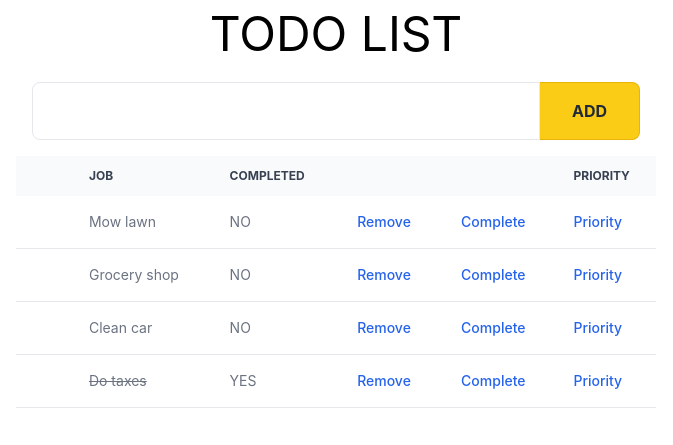
Test: My Add Todo Test › should show a star to the left of the job title when "Priority" is clicked
Click the link with id "priority-0". click: click(599, 222)
box: [574,213,623,230]
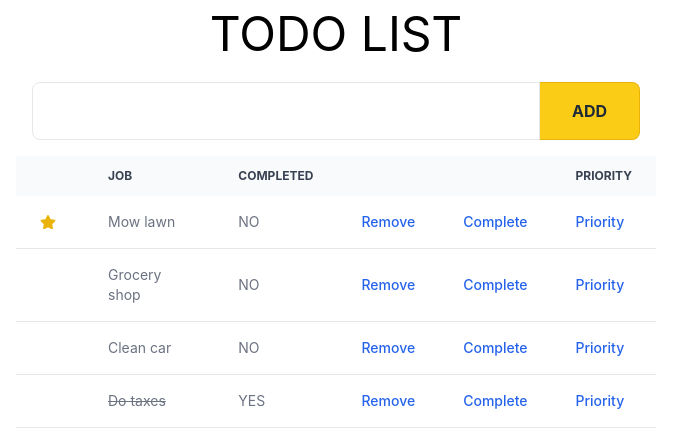
expect the picture with id "star" is shown: met, box [40,215,56,229]
